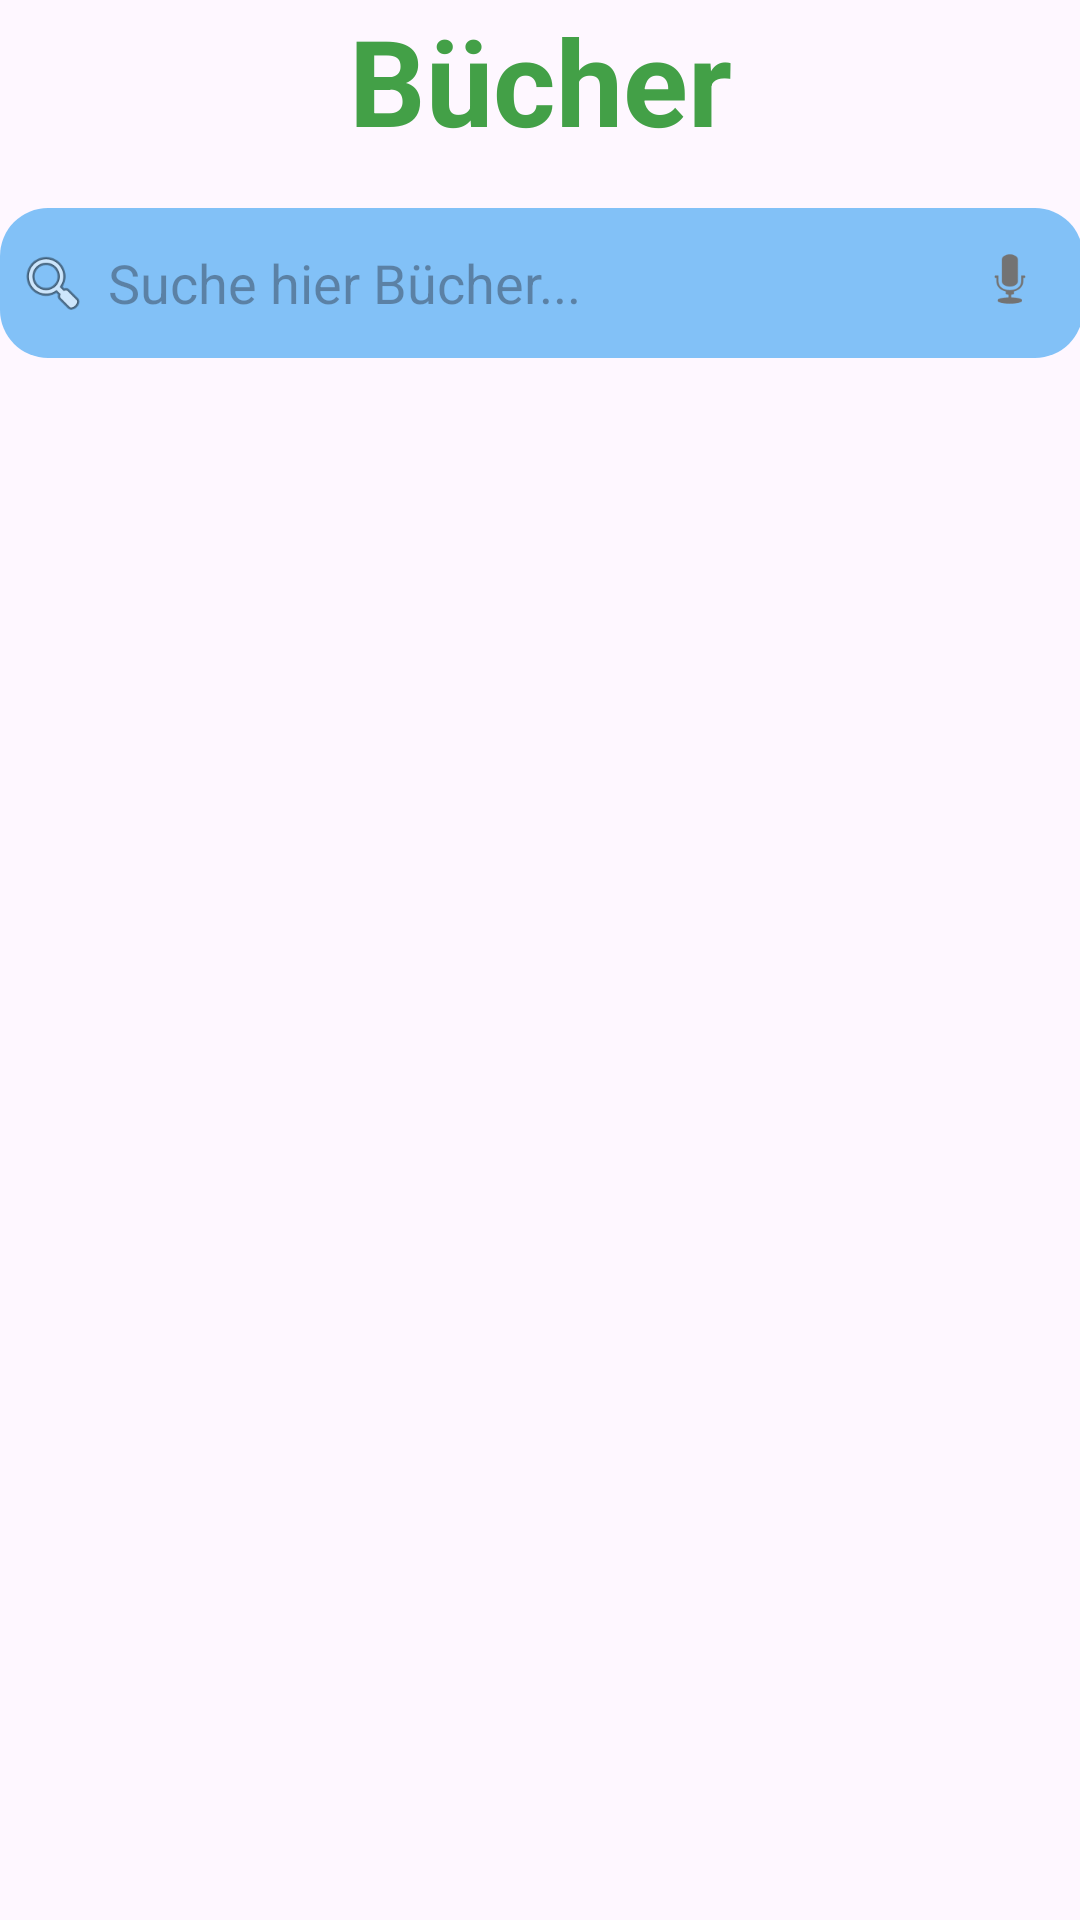

Where icons sit on this 1080w x 1920h app screen, as (left=x1, top=y1, right=x2, bottom=y2):
search: (left=26, top=257, right=80, bottom=310)
speak now: (left=994, top=254, right=1026, bottom=304)
